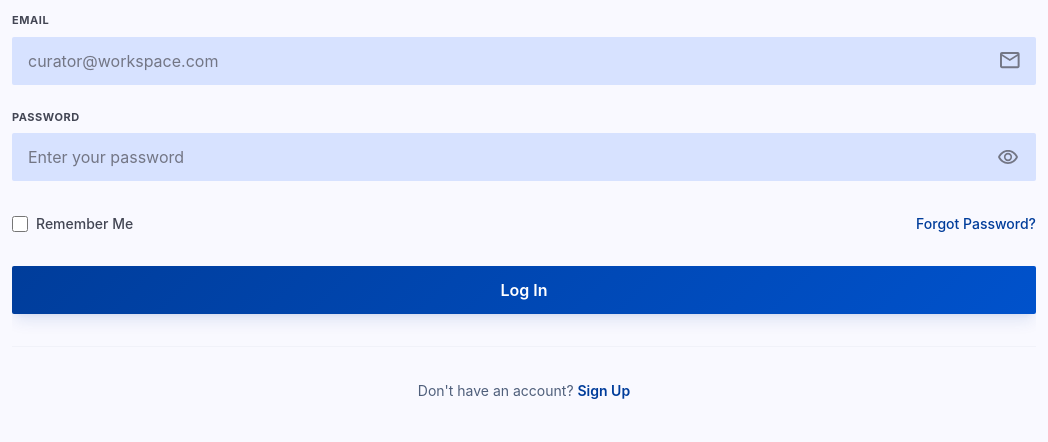
Scenario: LoginForm › validates email on blur and revalidates it as the user corrects it
Type "not-an-email" into the field labelled "Email".
click(524, 60); type("not-an-email")  # box [12,36,1036,84]
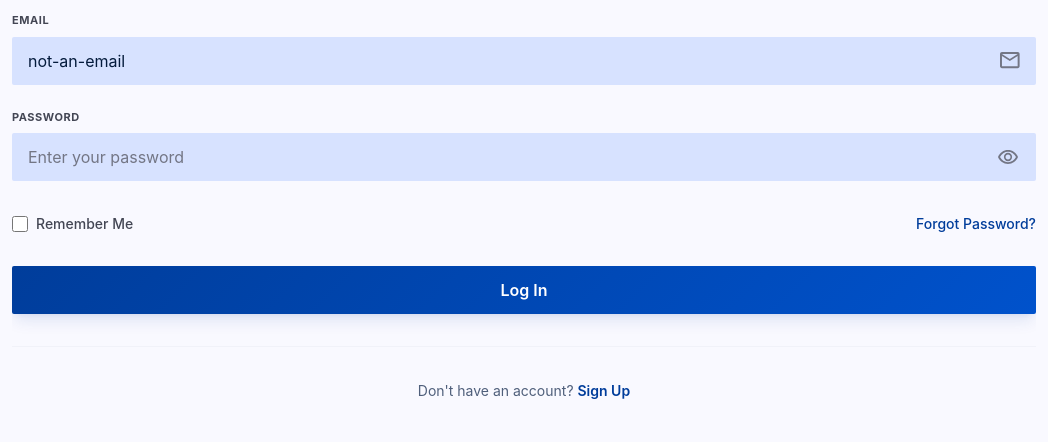
Leave the field labelled "Email", box [12,36,1036,84]
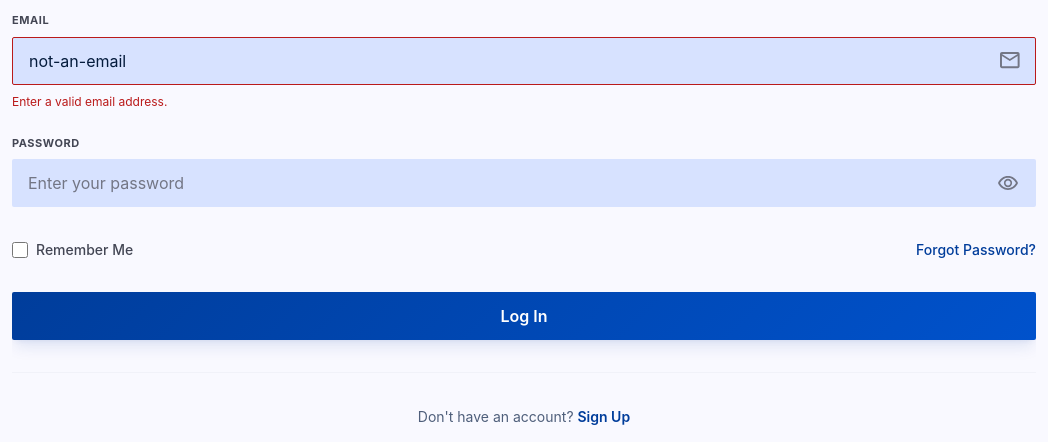
Check: the text "Enter a valid email address." is shown, box [12,94,167,108]
Replace the text in the field labelled "Email" with "curator@workspace.com" at x=524, y=60, box [12,36,1036,84]
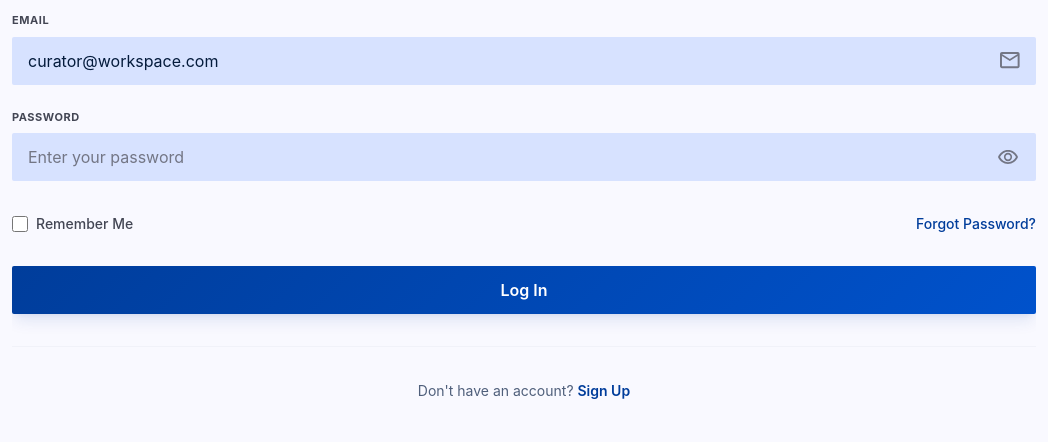
Check: the text "Enter a valid email address." is gone
